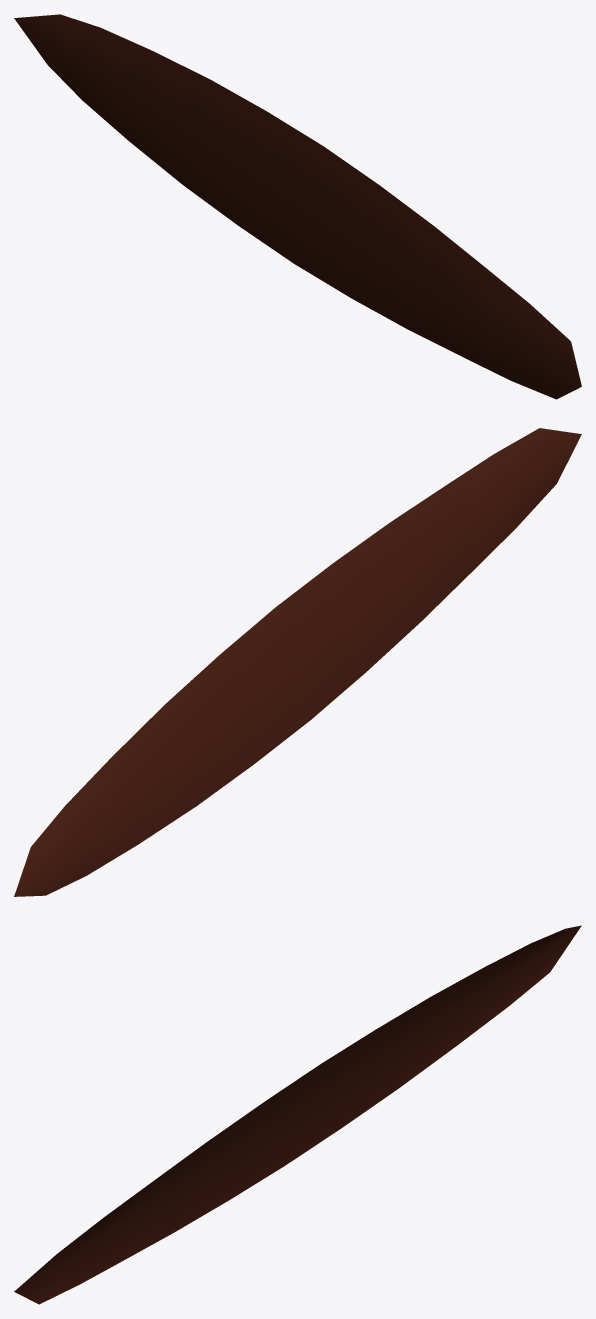
Rendered from rooster_feather_tail_primary_003.obj.
The picture shows the model from 3 angles, top to bottom: view 1: azimuth 30°, elevation 25°; view 2: azimuth 150°, elevation 25°; view 3: azimuth 330°, elevation 25°; orthographic projection.
Parts seen in each view (by area): view 1: feather_tail_primary_003; view 2: feather_tail_primary_003; view 3: feather_tail_primary_003.
Part boxes in pixels (left/top/right/bottom): feather_tail_primary_003: left=14, top=14, right=581, bottom=399; feather_tail_primary_003: left=14, top=428, right=581, bottom=896; feather_tail_primary_003: left=14, top=925, right=581, bottom=1304.
Bounding box in the file's own units: 0.00572 × 0.0195 × 0.1745.
